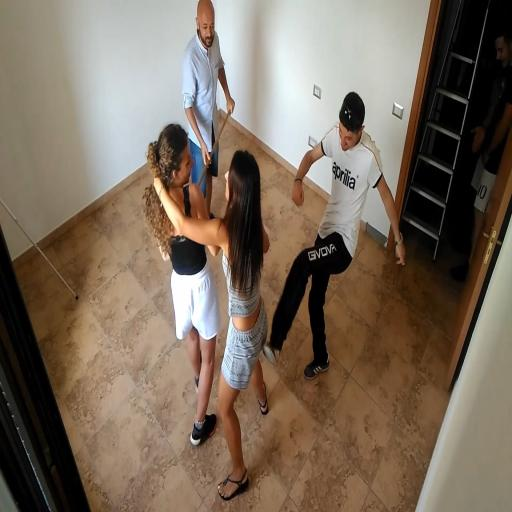agarrar: (144, 122, 276, 504)
chutar: (212, 88, 408, 475)
